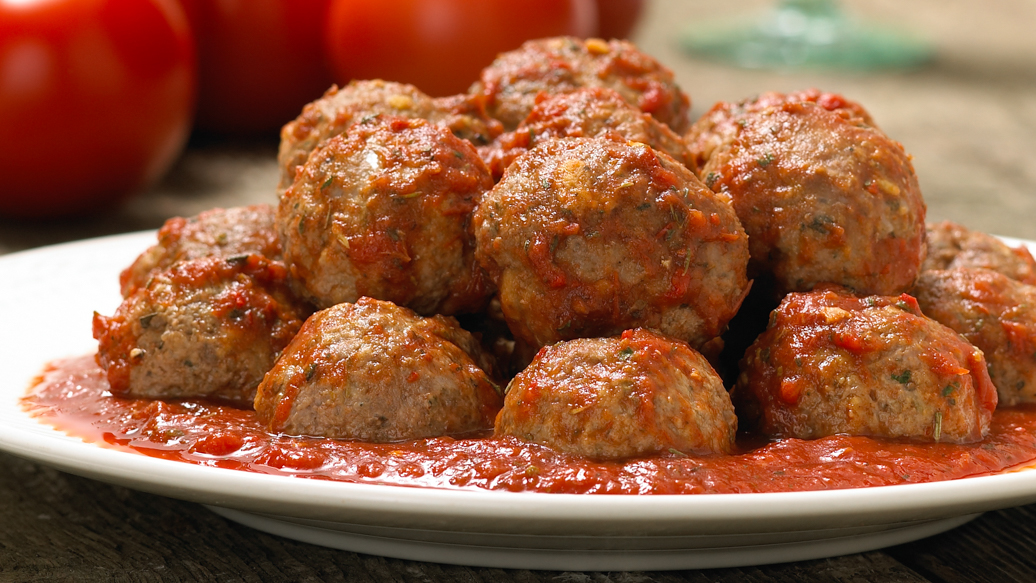meatballs: (109, 41, 1019, 452), (483, 141, 740, 345), (275, 127, 486, 315), (101, 216, 307, 392)
